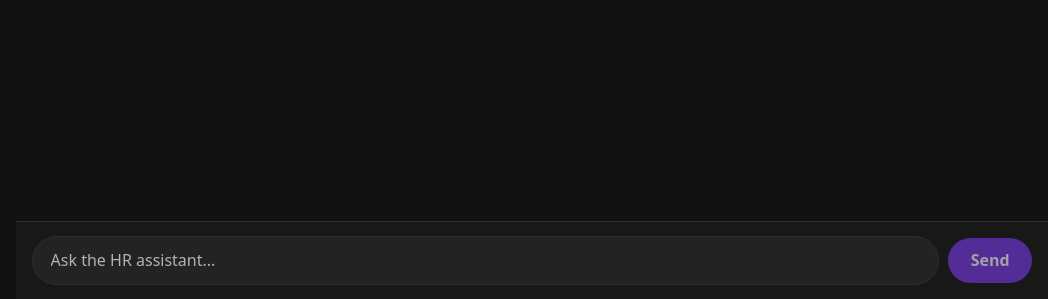
ChatDock › shows an error with a retry action that resends the prompt
Type "help" into the field with test id "chat-input" at point(485, 260), box x1=32 y1=236 x2=939 y2=285
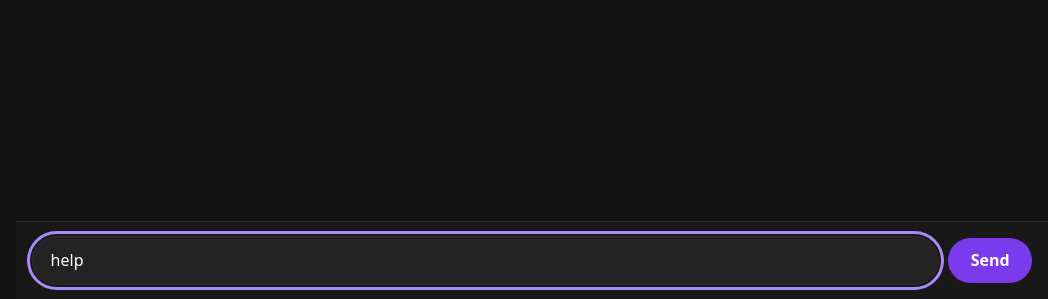
Click the button with test id "chat-send" at point(990, 260), box x1=948 y1=238 x2=1032 y2=283
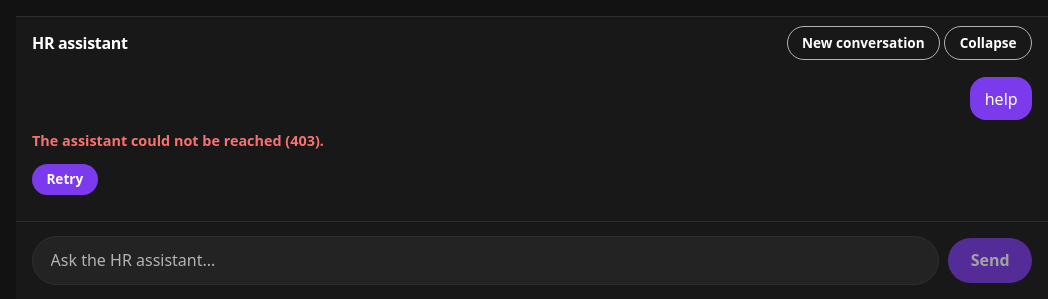
Expected: the message with test id "chat-error" shows "403", x1=32 y1=131 x2=324 y2=150
Click the button with test id "chat-retry" at point(65, 180), box x1=32 y1=164 x2=98 y2=195
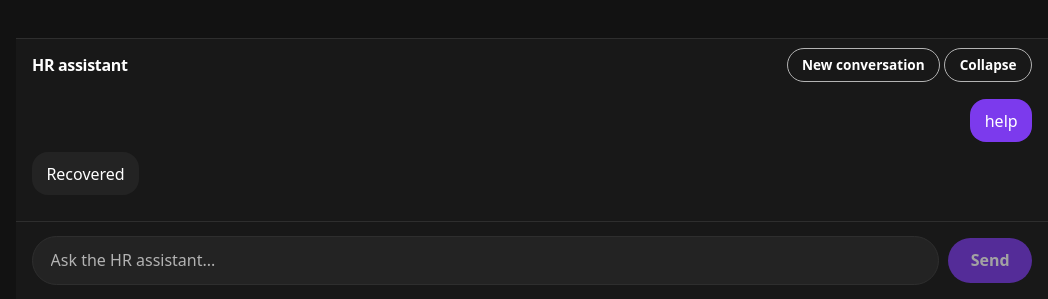
Expected: the text "help" is shown, x1=970 y1=99 x2=1032 y2=142
Expected: the text "Recovered" is shown, x1=32 y1=152 x2=139 y2=195
